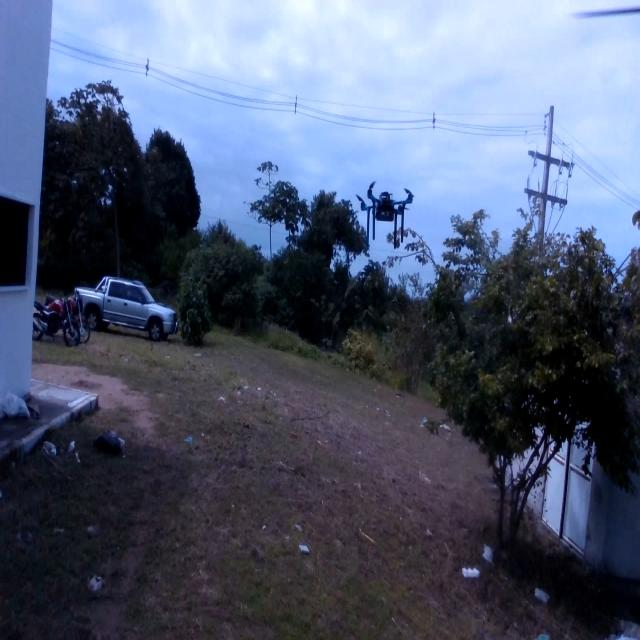-uav-: (347, 169, 418, 259)
